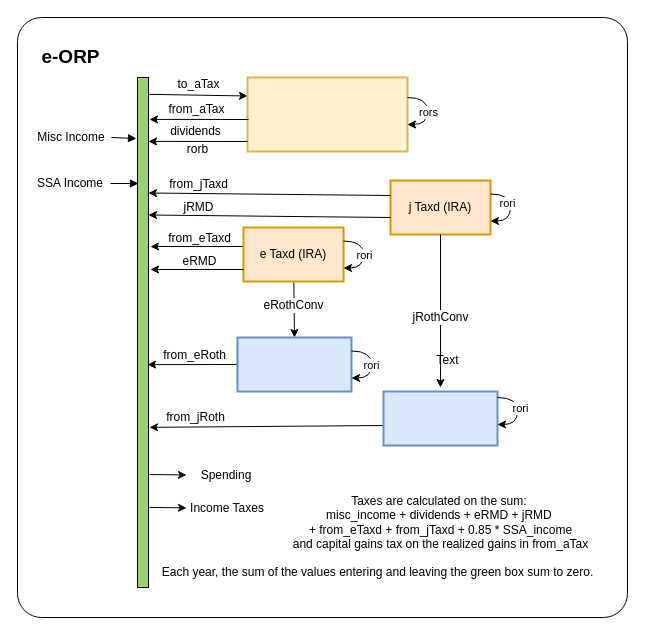
Some shapes in this 645 by 635 pixel diagram are drawn without their labels. The centre of each missing label's shape, as x and y in pixels:
"After-tax" goes at point (327, 114).
"e Roth IRA" goes at point (294, 364).
"j Roth IRA" goes at point (440, 418).
